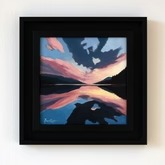painting: (39, 35, 128, 126)
